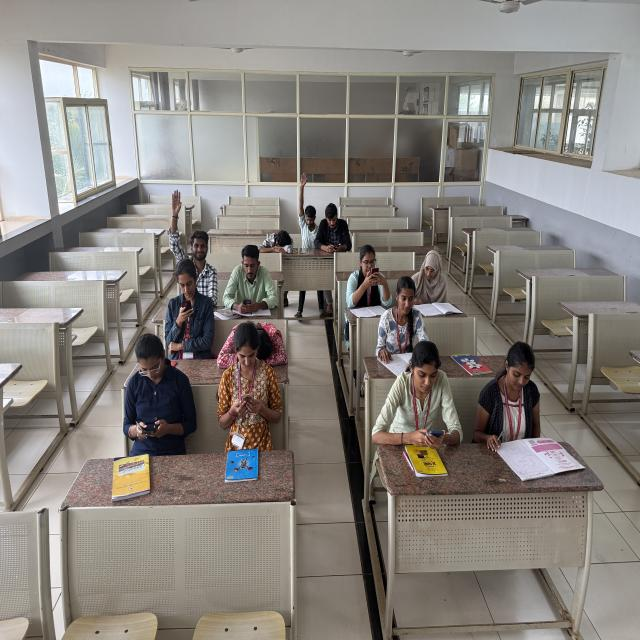Hand Rising: (167, 187, 212, 276), (295, 170, 323, 252)
Reading: (474, 338, 552, 455), (406, 247, 464, 321)
Sleeping: (217, 312, 291, 371), (253, 224, 297, 260)
Using Phone: (373, 339, 461, 448), (119, 329, 192, 455), (216, 321, 285, 448), (162, 257, 214, 351), (220, 243, 281, 314), (346, 240, 394, 316), (314, 200, 352, 258)
